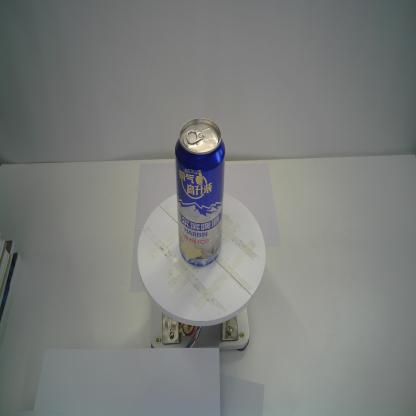Alcohol: (174, 116, 226, 268)
